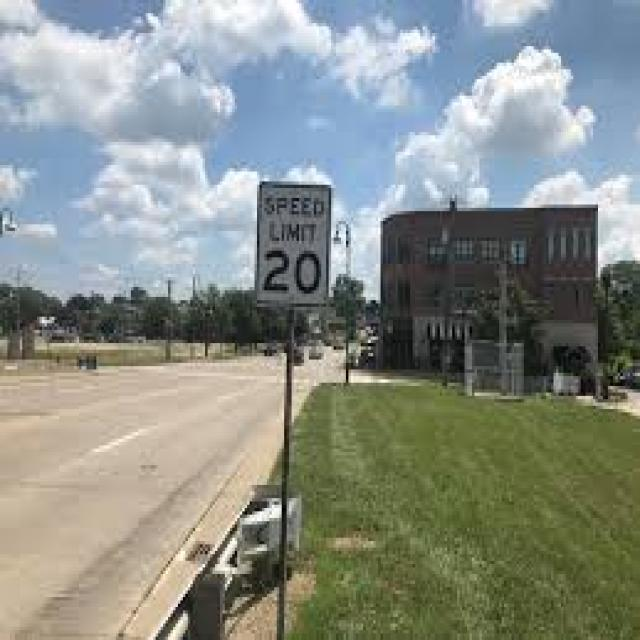speedLimit20: (256, 178, 327, 307)
